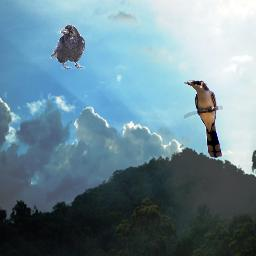Crow: (50, 24, 85, 69)
Cuckoo: (184, 80, 223, 159)
